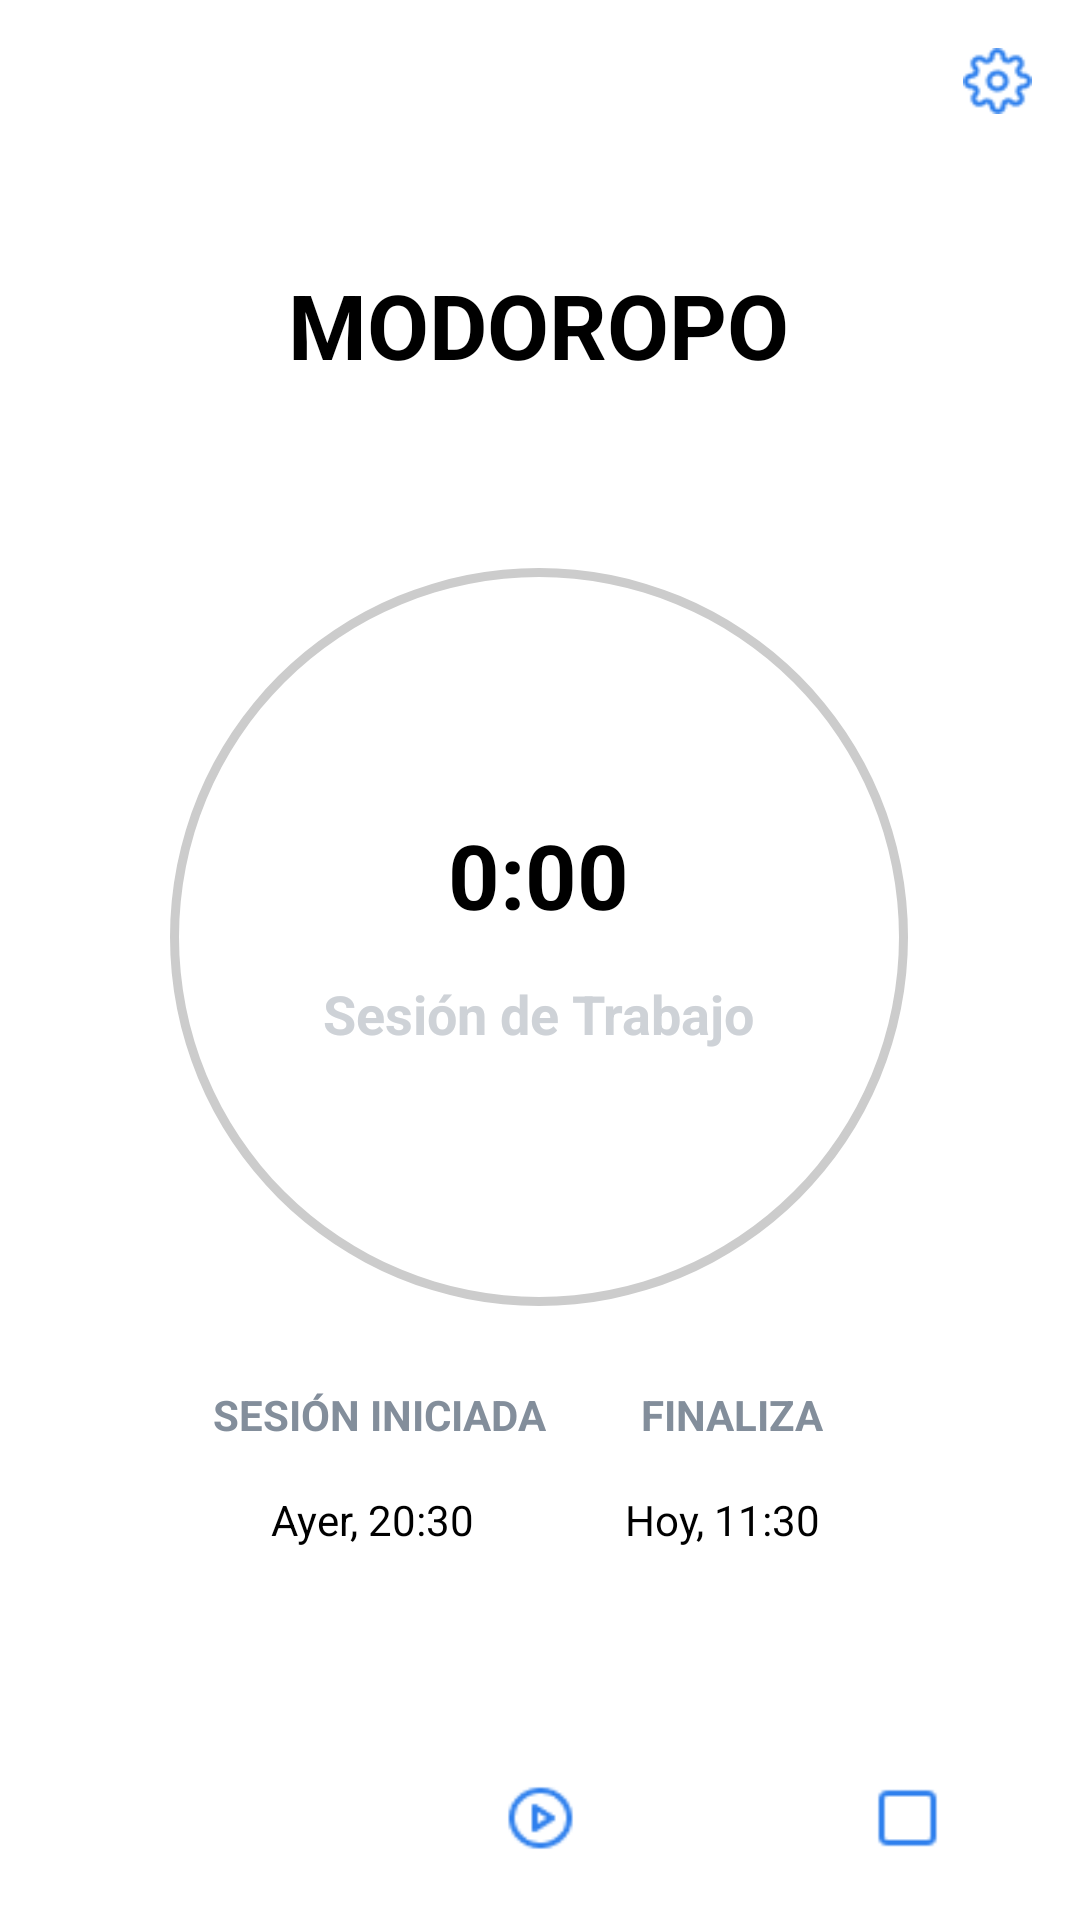

Screen size 1080 × 1920. Icon name, then its center in pixels as (x=x, y=y):
config: (x=997, y=81)
square: (x=907, y=1818)
